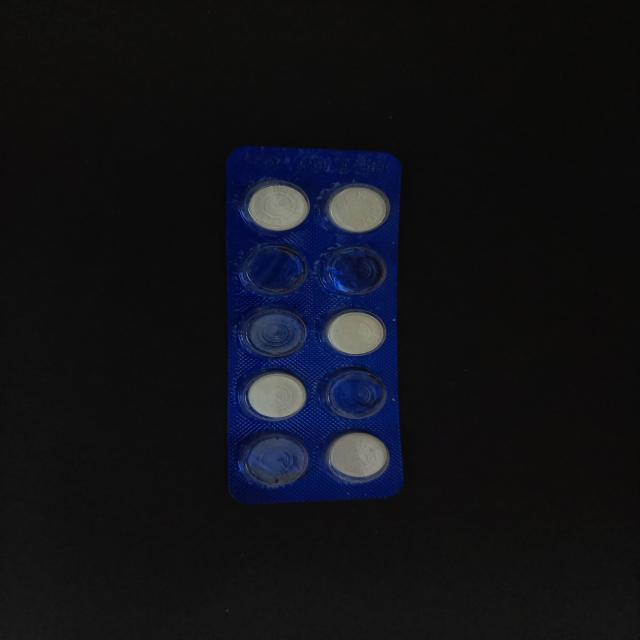defect: (234, 428, 312, 490), (232, 303, 310, 362), (317, 241, 389, 301), (315, 366, 392, 422), (236, 241, 312, 297)
